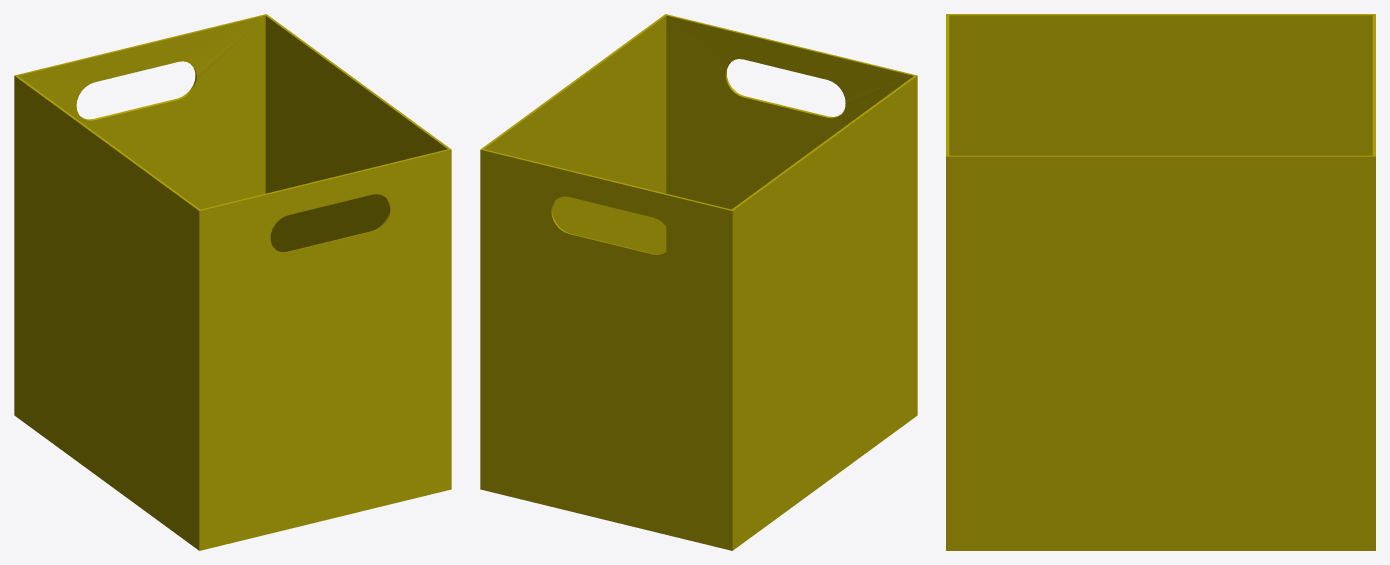
Rendered from office_prop_box_04.FBX.
3 renders of one model, left to right at view 1: azimuth 30°, elevation 25°; view 2: azimuth 150°, elevation 25°; view 3: azimuth 270°, elevation 25°, orthographic. The views are drawn at different scales.
Parts seen in each view (by area): view 1: office_prop_box_04; view 2: office_prop_box_04; view 3: office_prop_box_04.
Boxes of the visible parts, left/top/right/bottom form: office_prop_box_04: left=14, top=14, right=451, bottom=550; office_prop_box_04: left=480, top=14, right=917, bottom=550; office_prop_box_04: left=946, top=14, right=1375, bottom=550.
Size of the model in its own units: 32.98 by 42.45 by 41.95.
